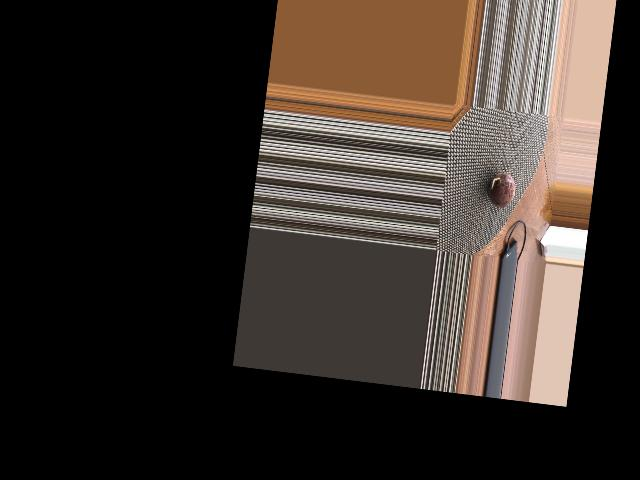beet: (486, 172, 516, 209)
